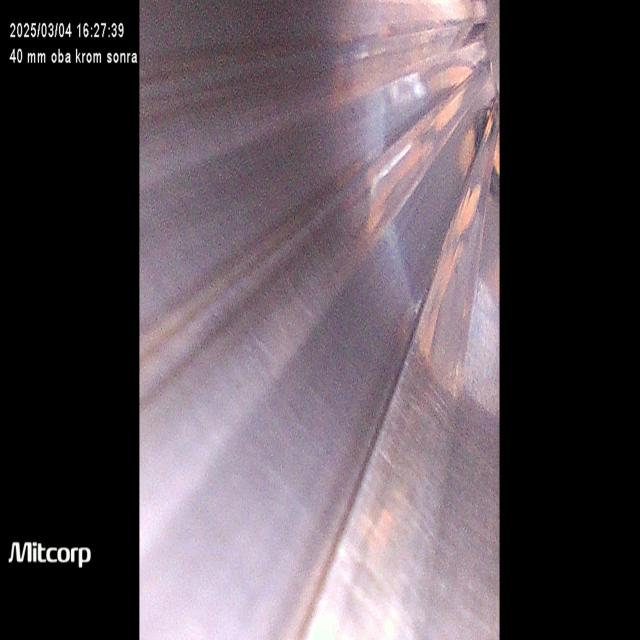hata_4.2: (354, 69, 477, 268)
